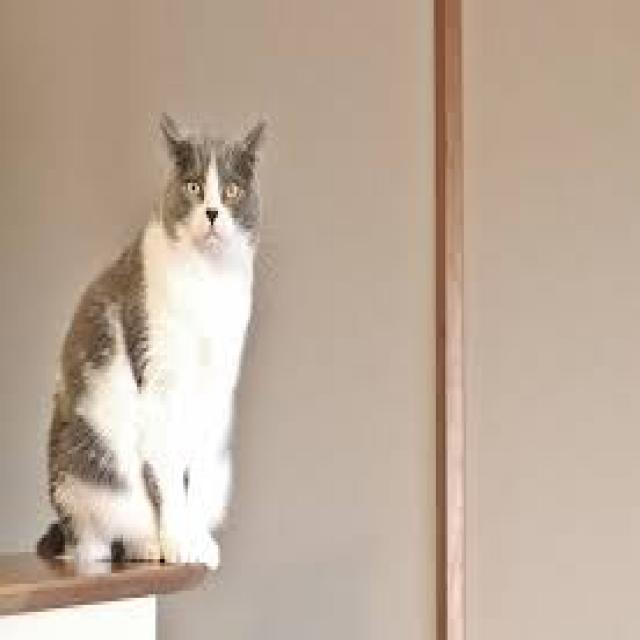cat: (32, 98, 272, 572)
